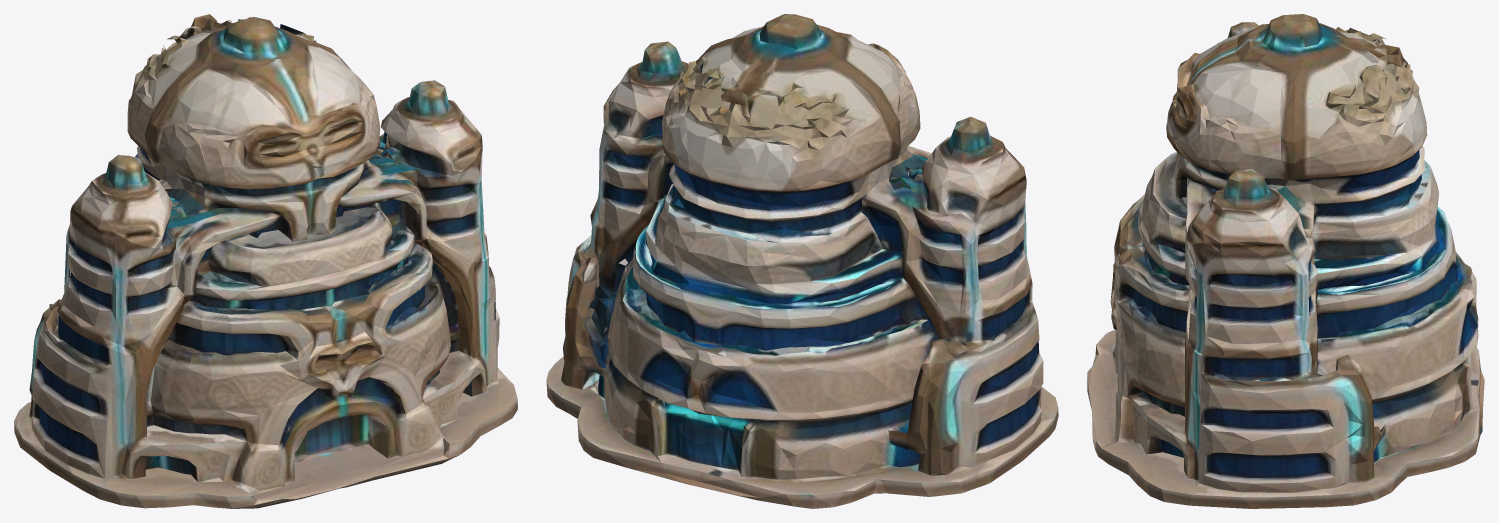
Rendered from dogu_city_tower_1116.glb.
3 renders of one model, left to right at view 1: azimuth 30°, elevation 25°; view 2: azimuth 150°, elevation 25°; view 3: azimuth 270°, elevation 25°, orthographic. The views are drawn at different scales.
Parts seen in each view (by area): view 1: world; view 2: world; view 3: world.
Part boxes in pixels (x1,y1,x2,y2): world: [14, 14, 517, 508]; world: [546, 14, 1058, 508]; world: [1087, 14, 1484, 508].
Bounding box in the file's own units: 1.15 × 1 × 0.9177.
1 material, 1 textured.
